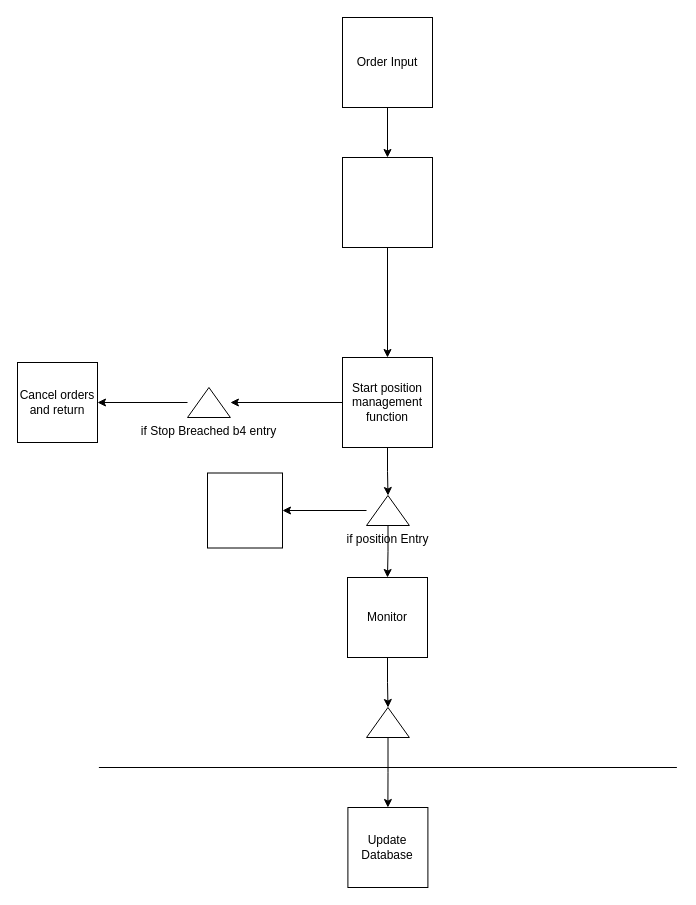
This 696x905 diagram has some shape labels left out. Here are the shapes that lost their labels. From the top down, the box of each, then its label:
(342, 156, 432, 248): Place Entry Order
(206, 472, 282, 548): Place stop order, post position to database
(366, 706, 409, 738): If stop executed
